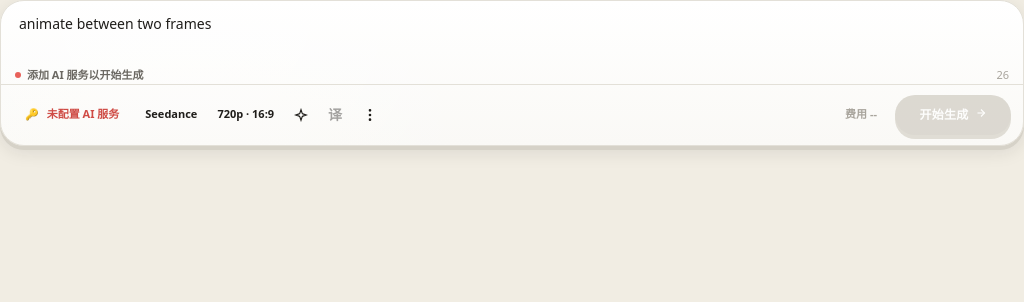
Test: PromptBar media attachments › uses video model controls for keyframe mode
Click the button "Seedance".
click(171, 115)  # box [139,101,203,129]
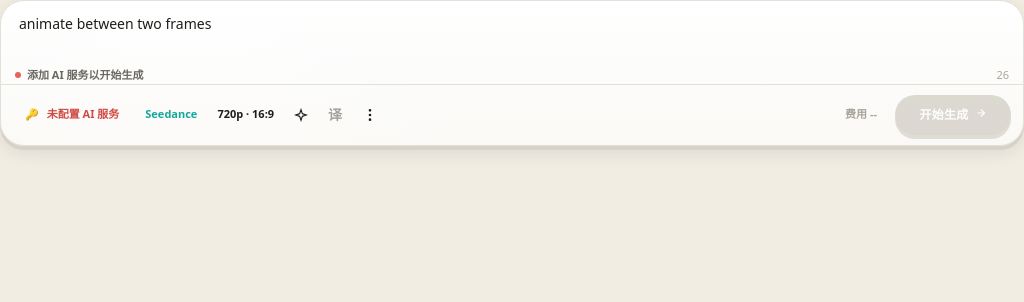
Check: the text "Seedance" is shown, box [145,106,197,123]
Click the button titled "生成参数".
click(246, 114)  # box [211,100,280,128]
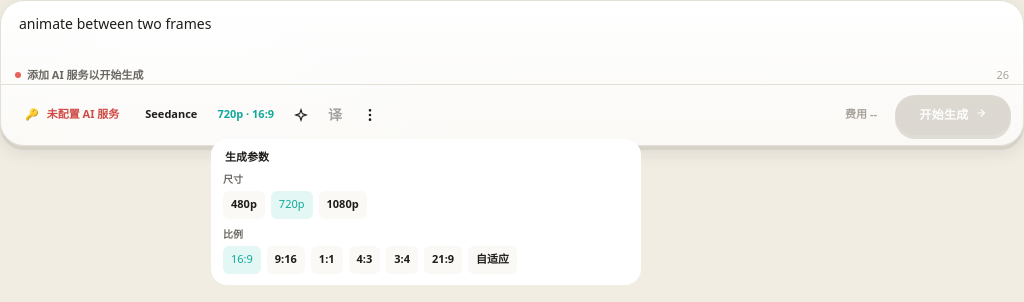
Check: the text "尺寸" is shown, box [223,171,243,185]
Check: the button "720p" is shown, box [271,190,313,218]
